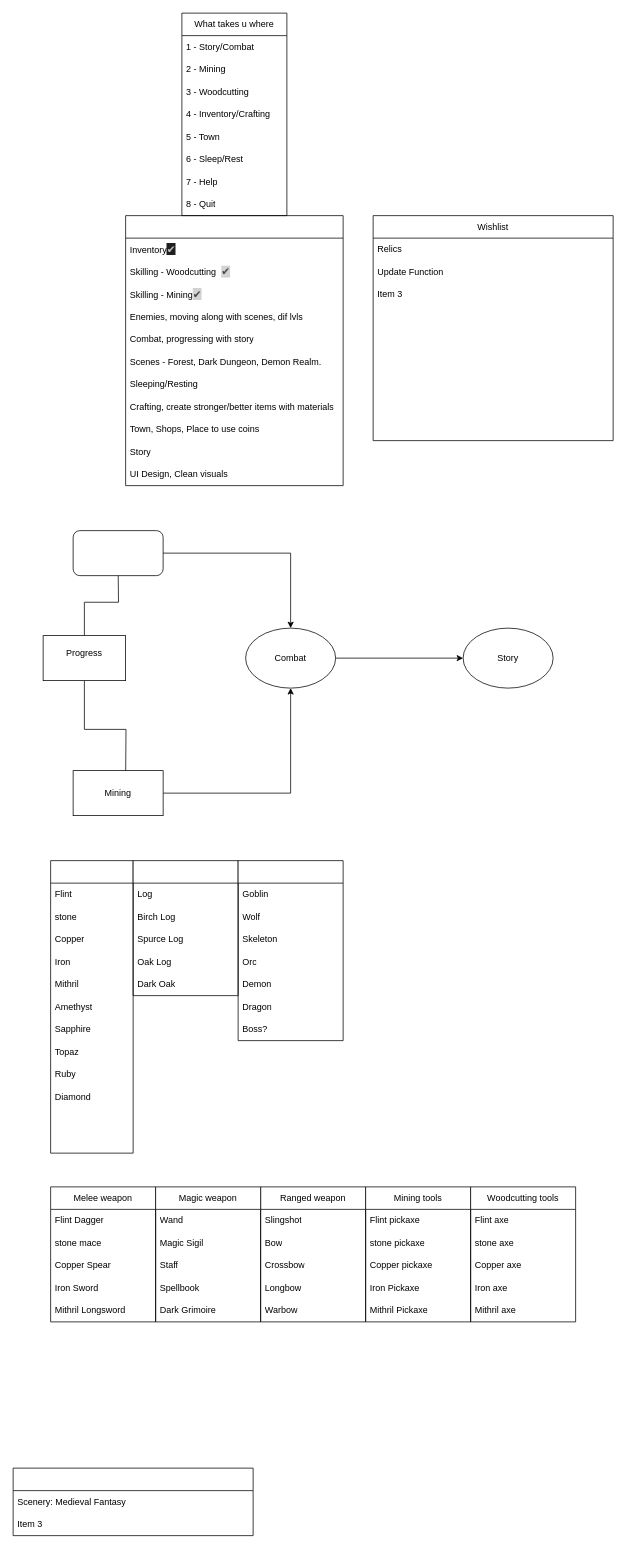
The diagram is 626 pixels wide and 1549 high, and some of its shapes have lost their labels. Each missing label, with the box of its shape:
Checklist: (125, 215, 343, 486)
Droptable Mining: (50, 860, 133, 1153)
Droptable Woodcutting: (132, 860, 238, 996)
Enemies: (237, 860, 343, 1041)
List: (12, 1467, 253, 1536)
Woodcutting: (72, 530, 163, 576)
